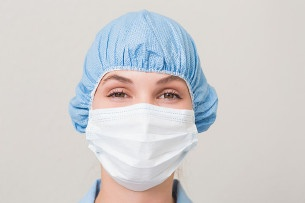Mask: (86, 69, 208, 191)
